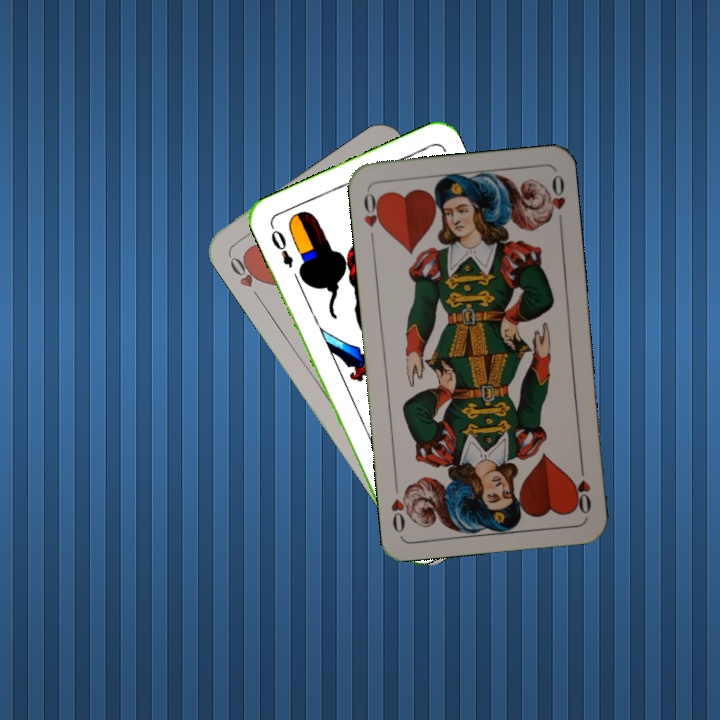EO: (266, 221, 296, 271)
HO: (225, 251, 265, 303), (359, 187, 386, 246), (569, 459, 594, 517)
